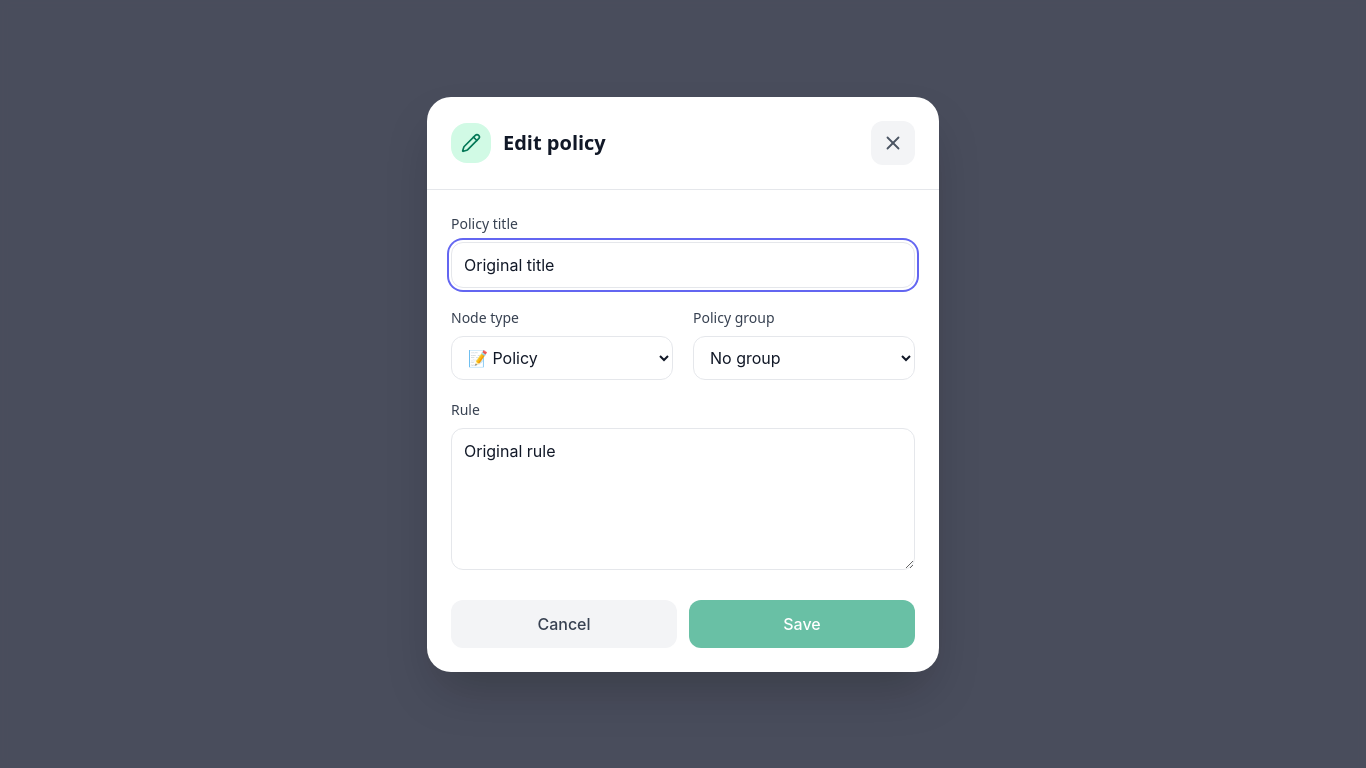
RSIPNodeEditorDialog › keeps the editor open and reports a save failure
Step 1. Replace the text in the text box labelled "Rule" with "Changed rule" → (683, 498), box 451,428 -> 915,570
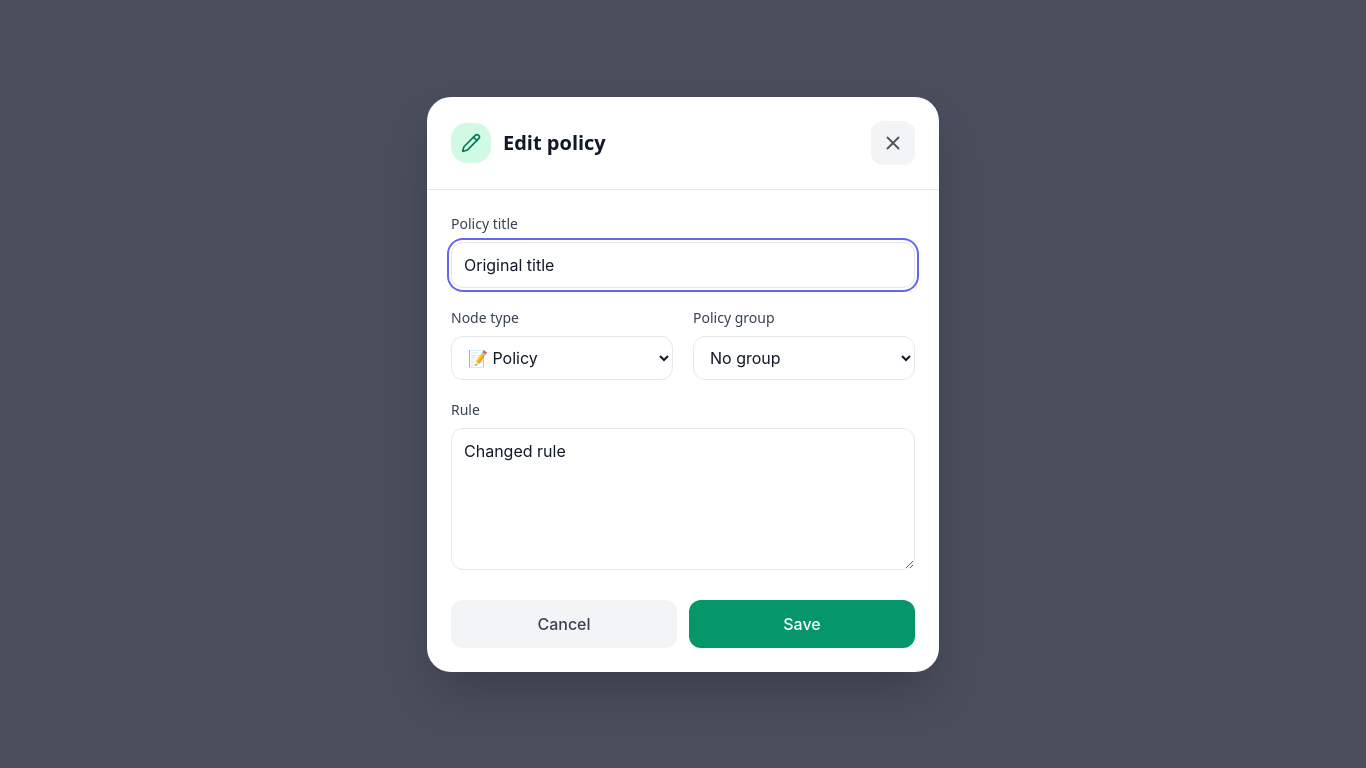
Step 2. Click the button "Save" → click(802, 624), box 689,600 -> 915,648
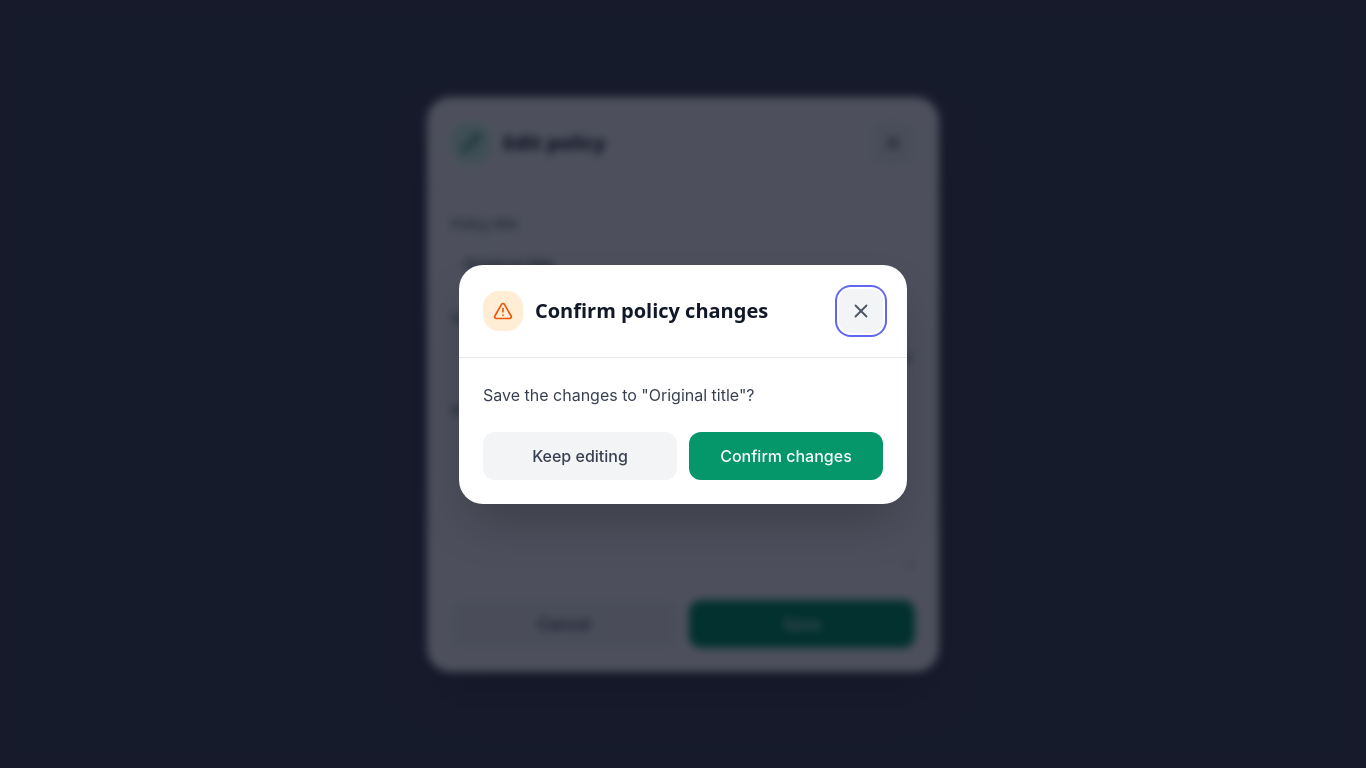
Step 3. Click the button "Confirm changes" → click(786, 456), box 689,432 -> 883,480
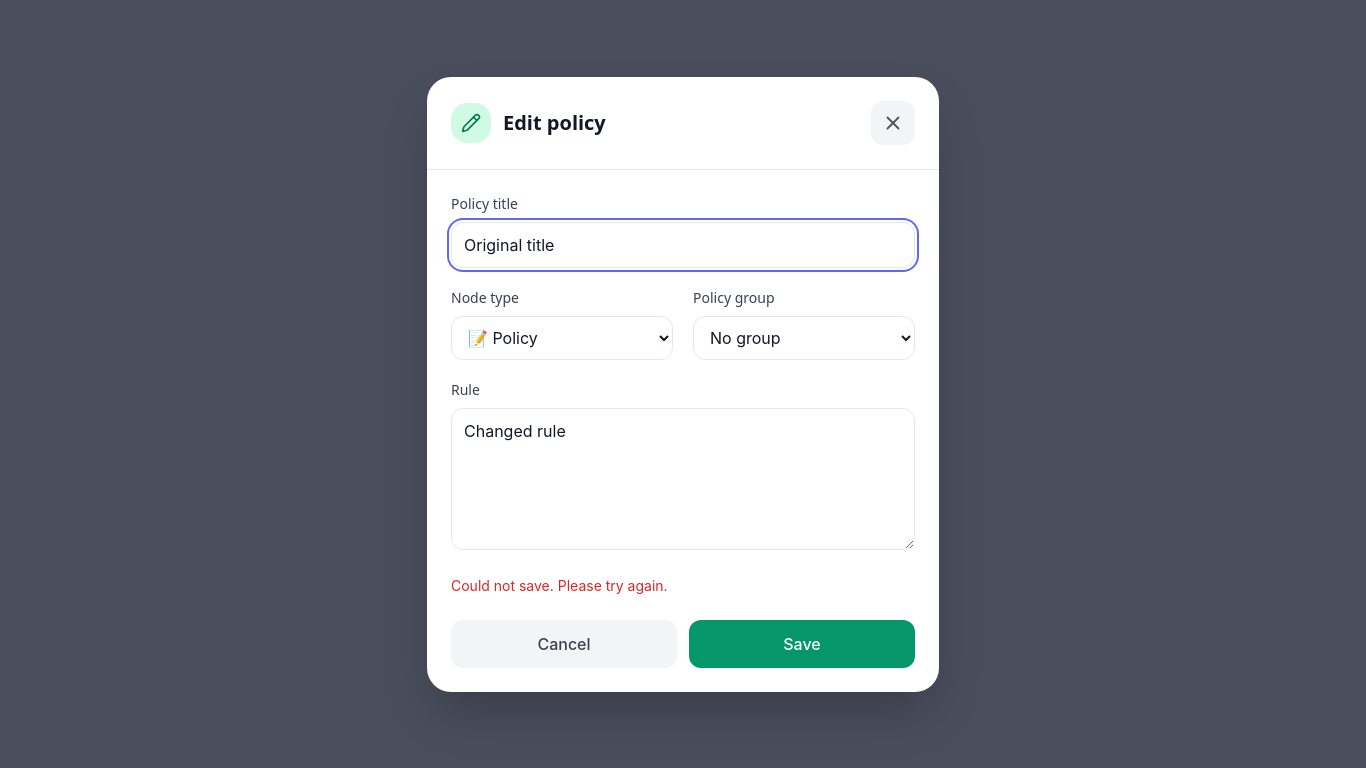
Check: the message reads "Could not save. Please try again.", box 451,576 -> 668,594
